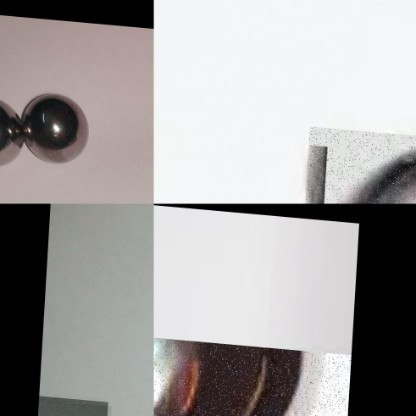ironball: (153, 343, 328, 414), (19, 86, 95, 171), (351, 150, 416, 204), (0, 94, 25, 166)
